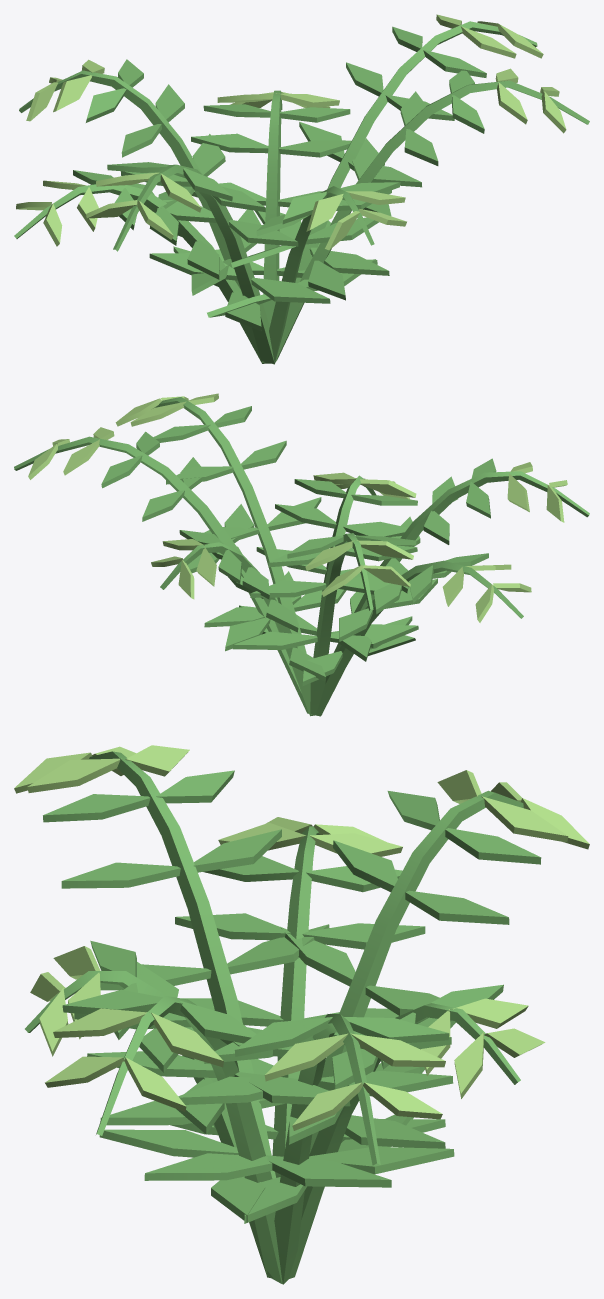
Rendered from fern.glb.
The picture shows the model from 3 angles, top to bottom: view 1: azimuth 30°, elevation 25°; view 2: azimuth 150°, elevation 25°; view 3: azimuth 270°, elevation 25°; orthographic projection. The views are drawn at different scales.
Parts seen in each view (by area): view 1: fern; view 2: fern; view 3: fern.
Part boxes in pixels (left/top/right/bottom): fern: left=14, top=14, right=589, bottom=364; fern: left=14, top=393, right=589, bottom=716; fern: left=14, top=745, right=589, bottom=1284.
Bounding box in the file's own units: 0.9138 × 0.4358 × 0.5603.
